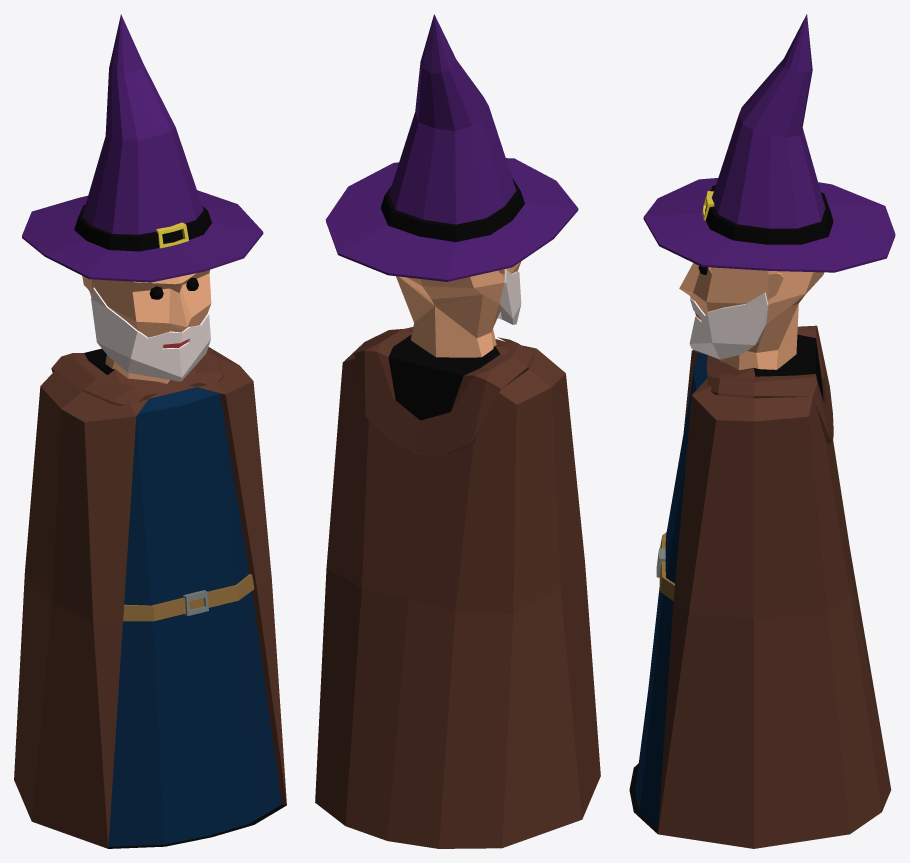
The model's file is firstFullFinish.fbx.
3 renders of one model, left to right at view 1: azimuth 30°, elevation 25°; view 2: azimuth 150°, elevation 25°; view 3: azimuth 270°, elevation 25°, orthographic. The views are drawn at different scales.
Parts seen in each view (by area): view 1: Cube.002, Cube.003, Cube; view 2: Cube.002, Cube.003, Cube; view 3: Cube.002, Cube.003, Cube.
Boxes of the visible parts, <box> form: Cube.002: <box>14,347,286,848</box>; Cube.003: <box>22,14,263,282</box>; Cube: <box>82,270,211,383</box>; Cube.002: <box>315,327,600,848</box>; Cube.003: <box>325,14,578,281</box>; Cube: <box>396,261,521,357</box>; Cube.002: <box>629,325,891,848</box>; Cube.003: <box>643,14,895,272</box>; Cube: <box>679,263,824,370</box>.
Size of the model in its own units: 378 by 1157 by 360.
